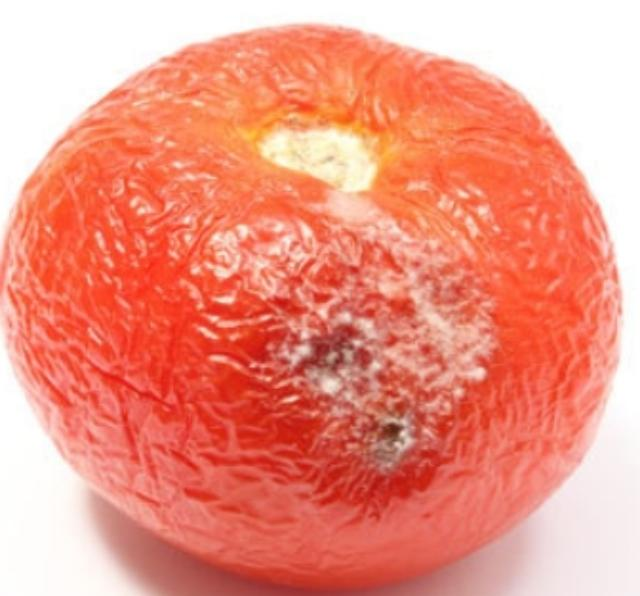defect: (0, 8, 627, 589)
